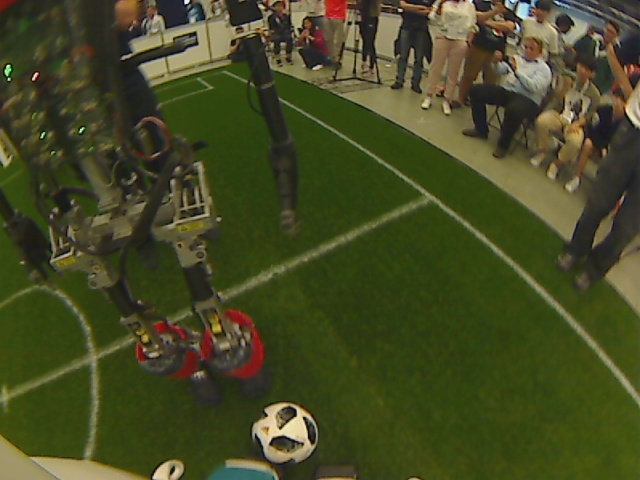ball: (248, 402, 320, 466)
